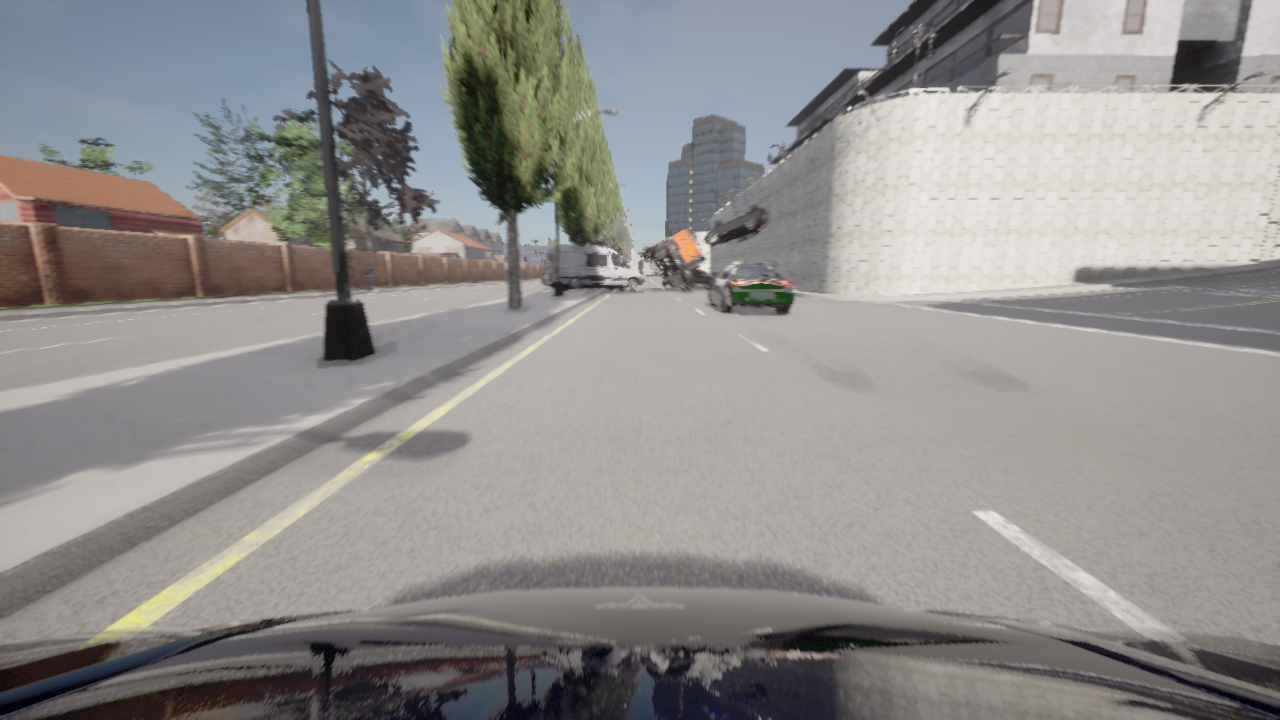cyclist: (0, 588, 1279, 719), (546, 245, 644, 292), (708, 262, 794, 313), (644, 229, 706, 288), (542, 254, 626, 290), (704, 205, 767, 245), (679, 270, 710, 289)
pedestrian: (365, 260, 375, 290)
